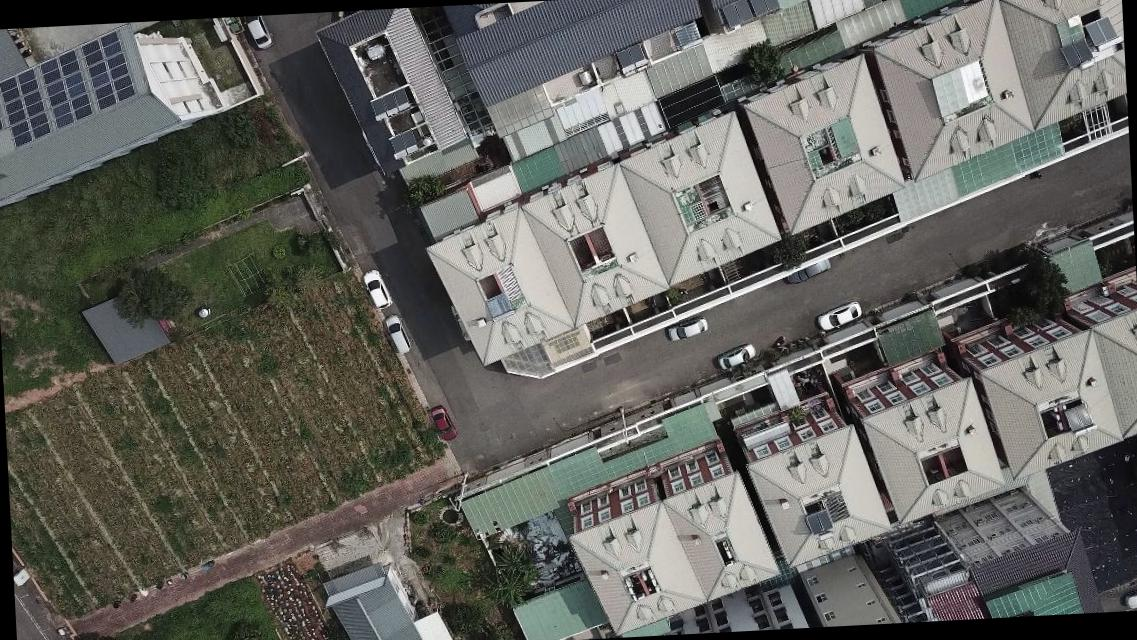vehicle: (814, 299, 861, 330), (783, 256, 830, 286), (362, 268, 393, 310), (715, 342, 756, 371), (240, 15, 272, 52), (663, 317, 708, 343), (430, 405, 458, 443), (384, 314, 410, 354)
